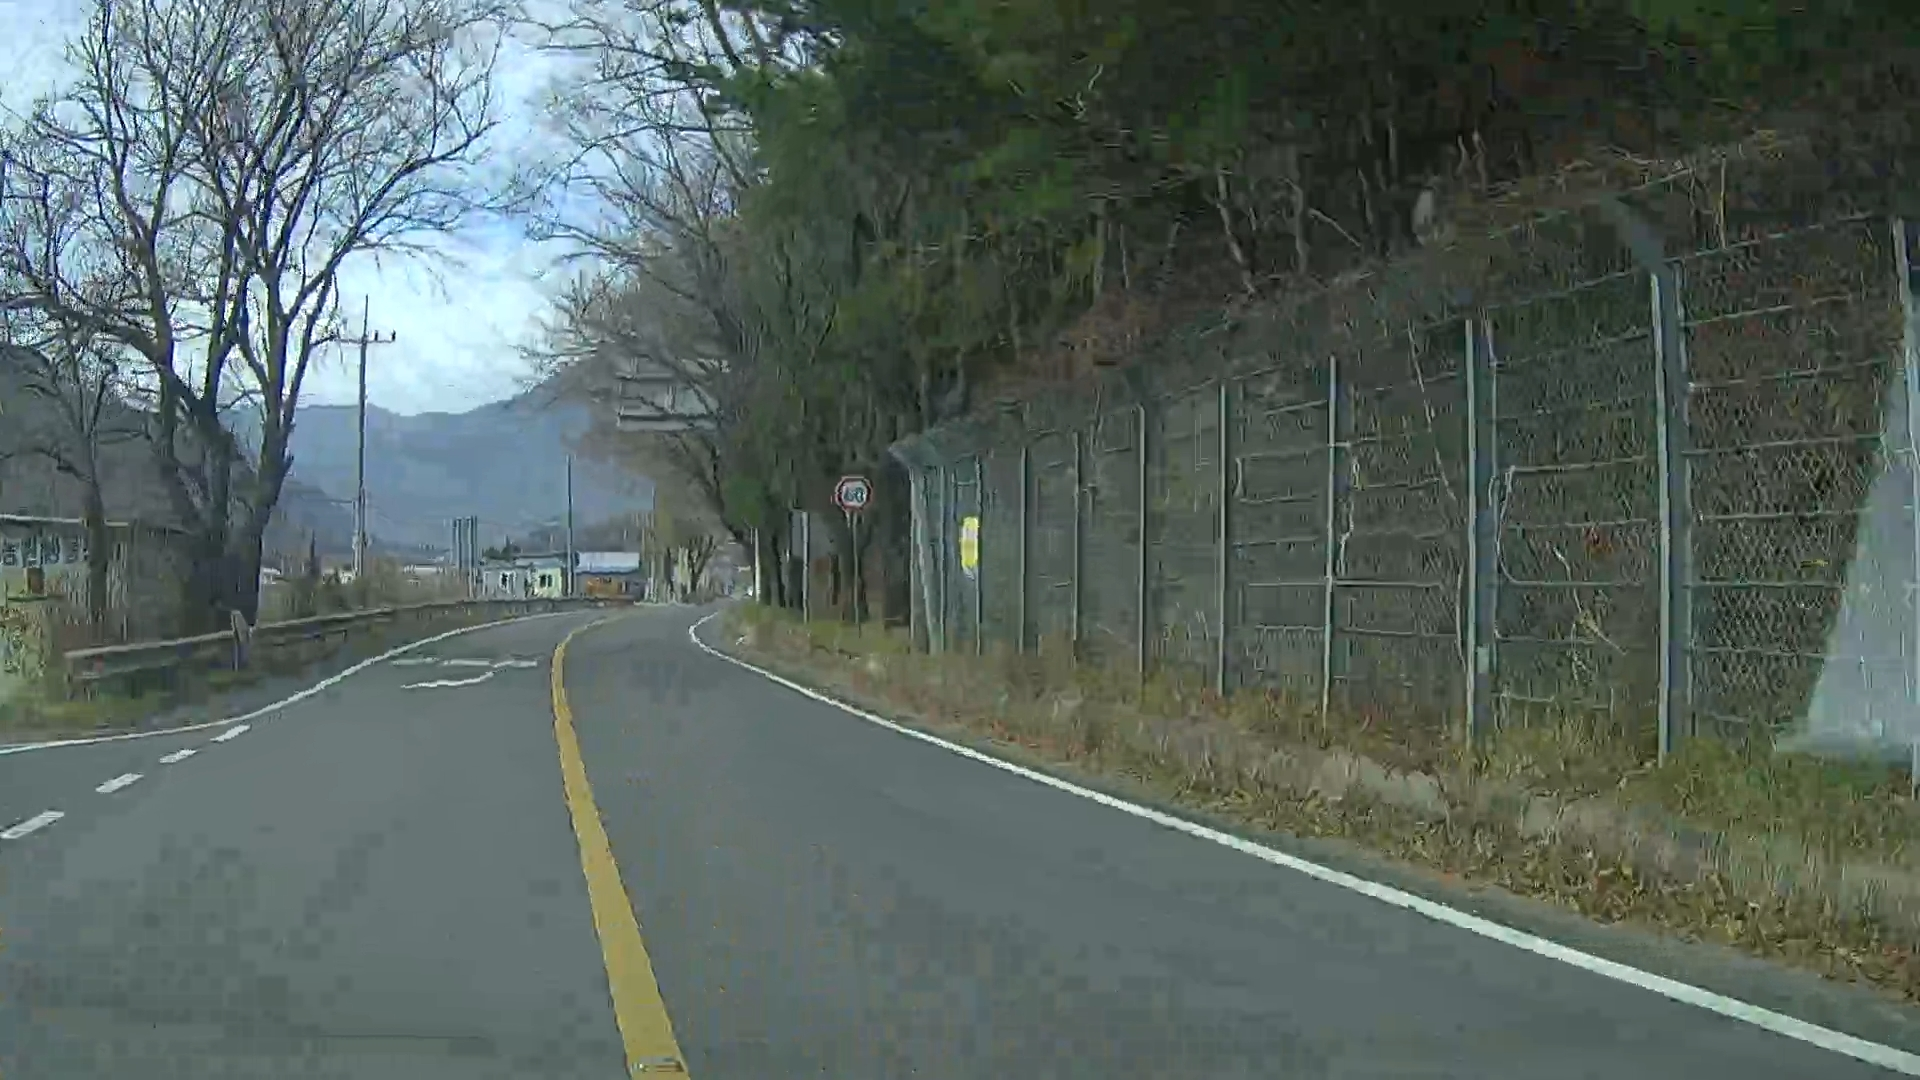trafficSignCircle: (829, 468, 874, 520)
